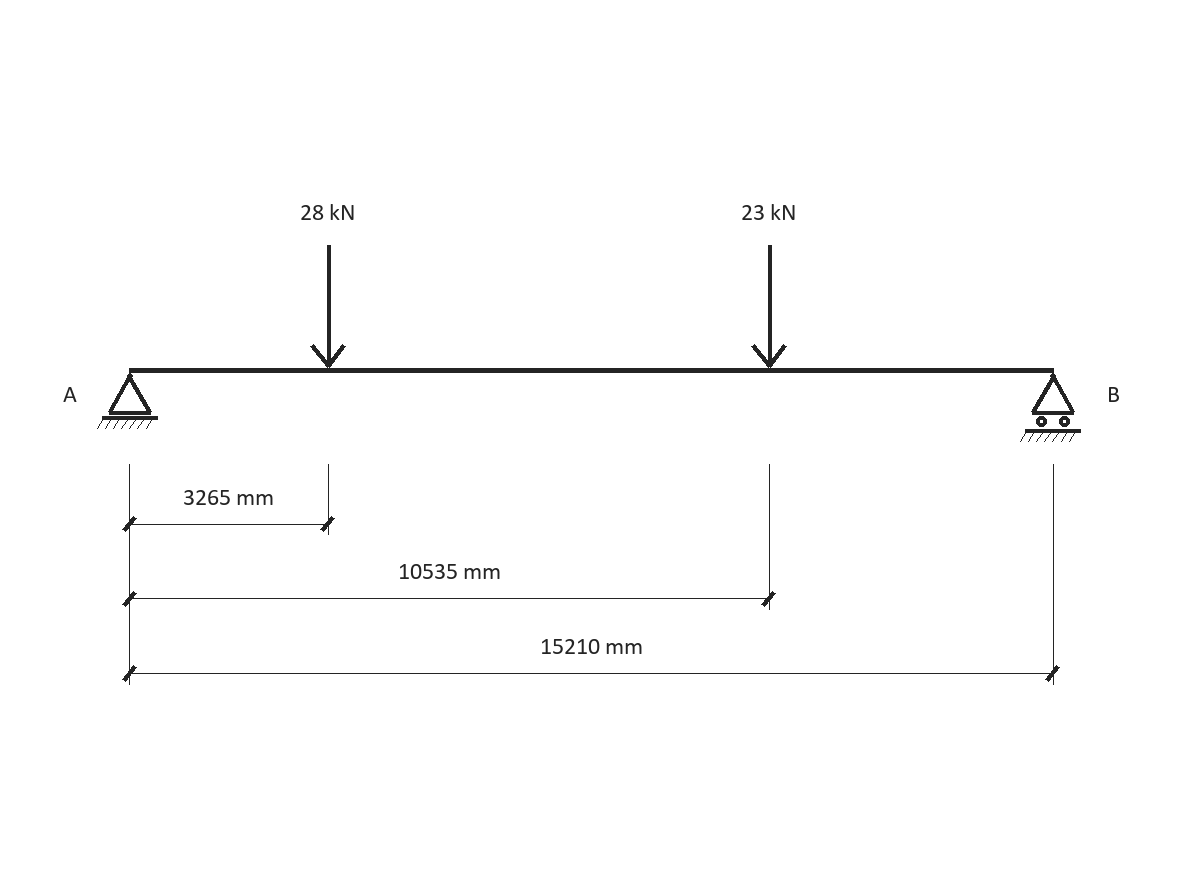pin_support: (97, 373, 158, 429)
point_load: (310, 245, 346, 368), (751, 245, 787, 368)
roller_support: (1020, 373, 1081, 442)
